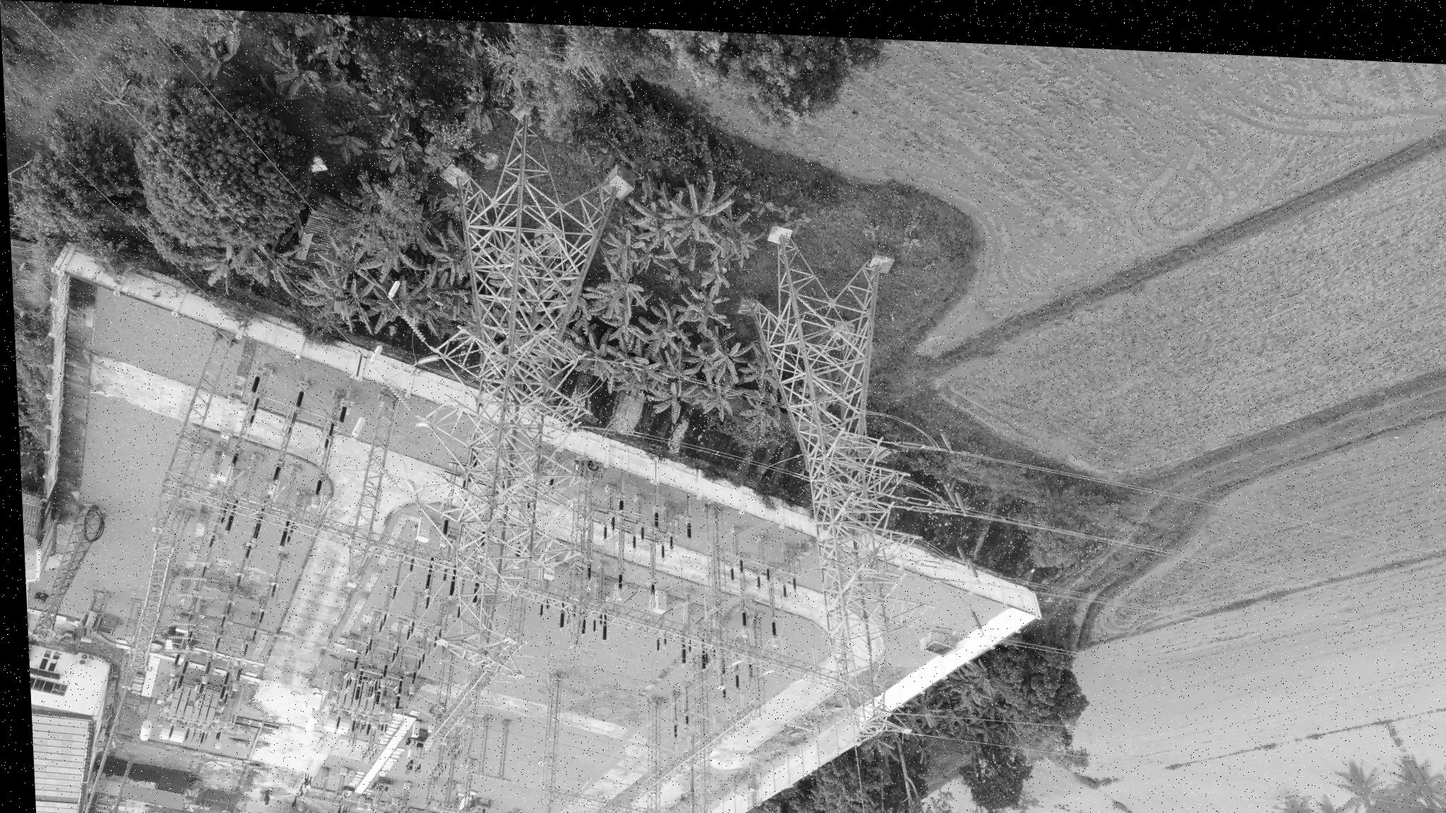tower: (388, 96, 652, 685), (738, 210, 934, 740)
